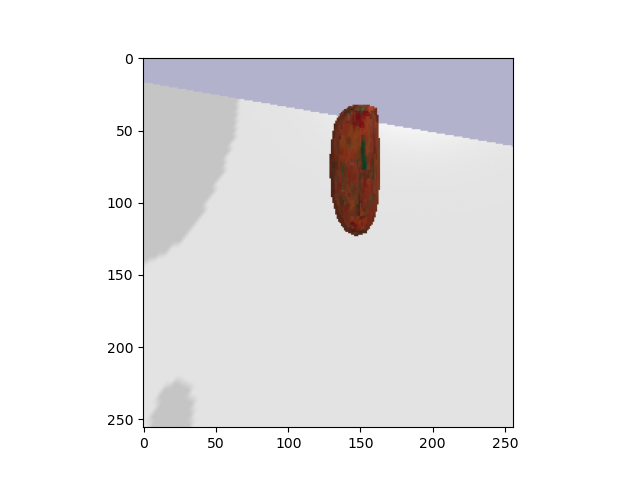v249b387_106: (318, 101, 401, 241)
